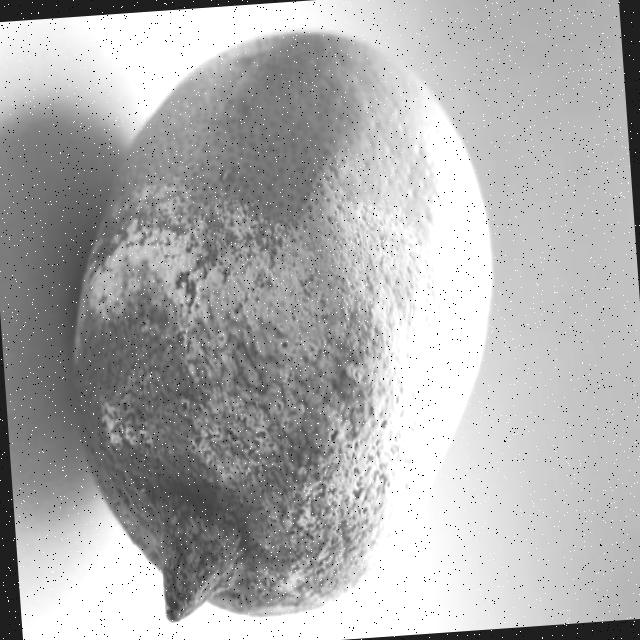Rotten: (46, 19, 519, 632)
